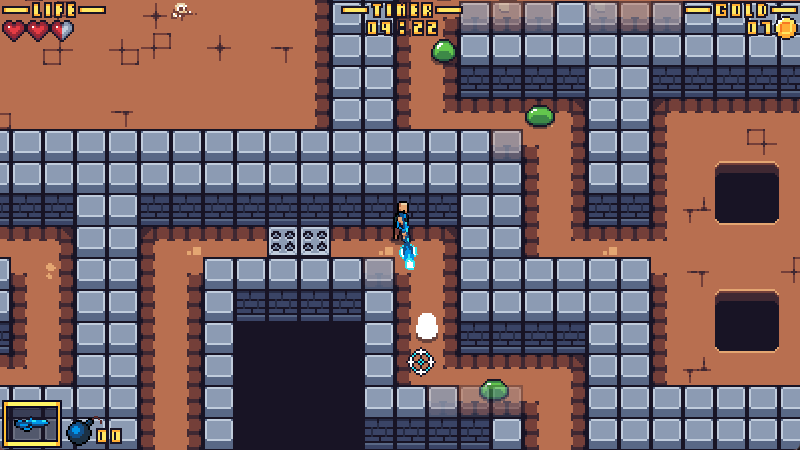aim: (406, 348, 436, 376)
enemy_slug: (526, 102, 556, 127), (478, 379, 509, 400), (430, 39, 457, 62)
enemy_slug_hit: (414, 310, 439, 341)
health-1: (1, 18, 75, 42)
player: (392, 199, 415, 244)
shoot: (399, 238, 417, 270)
trap_warning: (266, 226, 330, 286)
